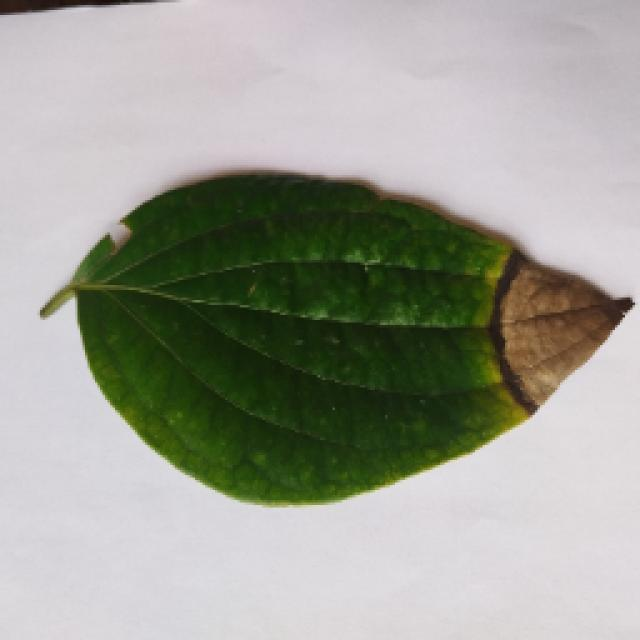footrot: (35, 168, 630, 502)
